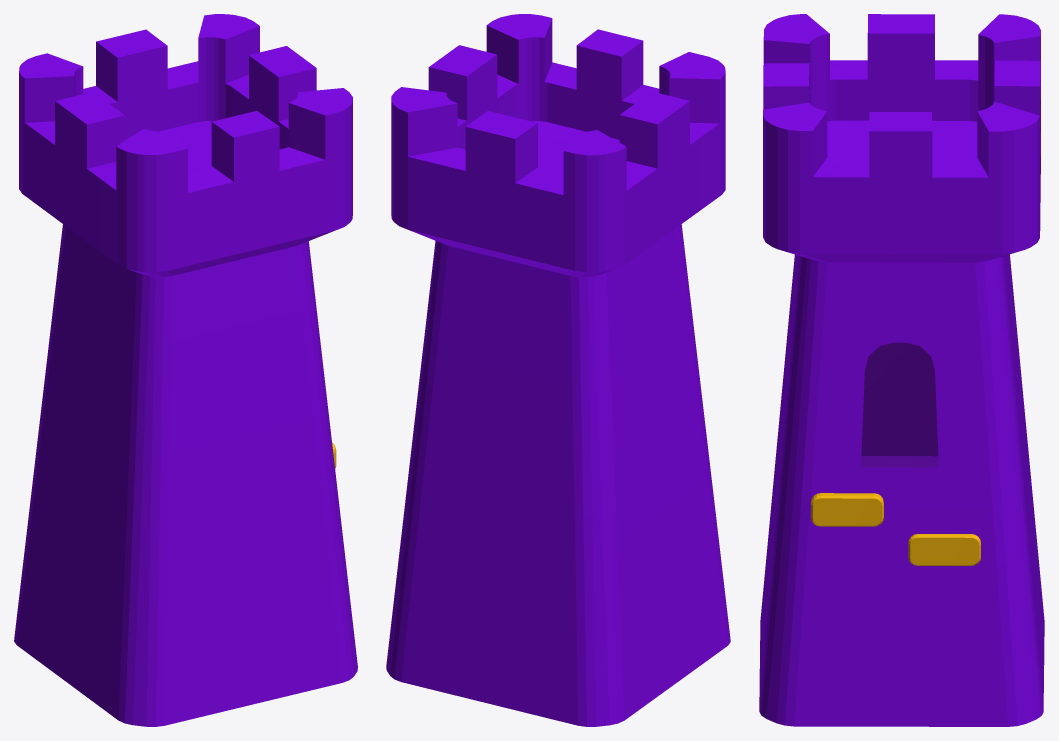
Rendered from Tower_2.fbx.
3 renders of one model, left to right at view 1: azimuth 30°, elevation 25°; view 2: azimuth 150°, elevation 25°; view 3: azimuth 270°, elevation 25°, orthographic. The views are drawn at different scales.
Parts seen in each view (by area): view 1: Cube.134; view 2: Cube.134; view 3: Cube.134.
Part boxes in pixels (<box>): Cube.134: <box>14,14,357,726</box>; Cube.134: <box>386,14,730,726</box>; Cube.134: <box>759,14,1044,726</box>.
Bounding box in the file's own units: 319 × 733 × 319.
